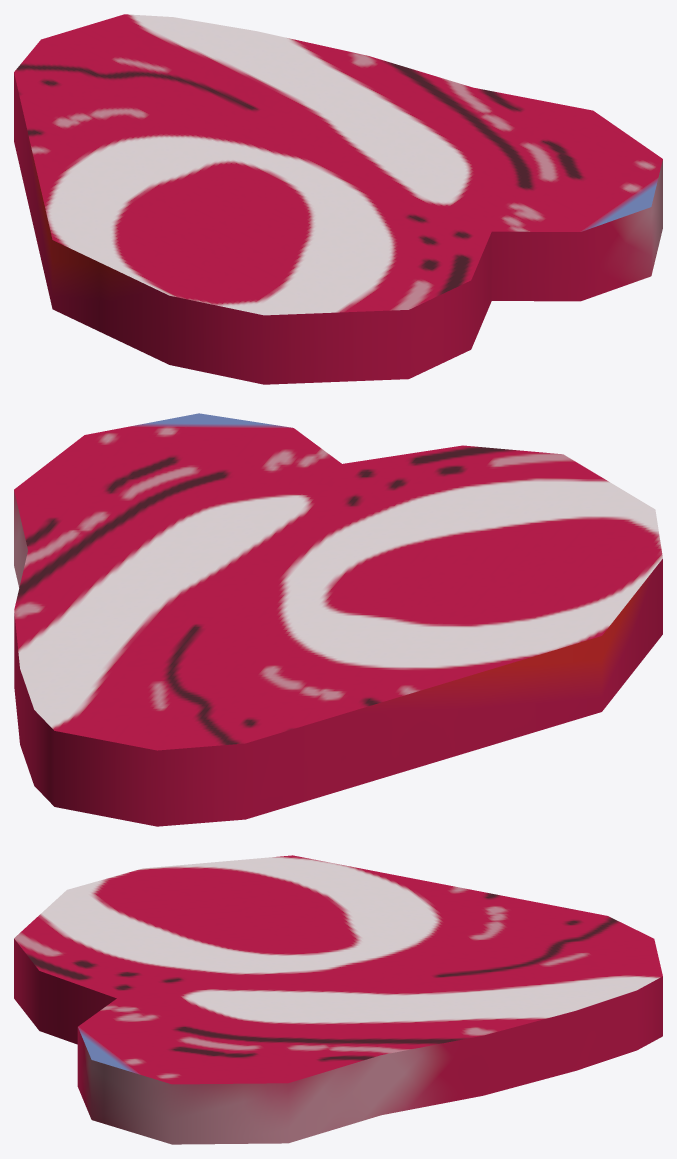
Rendered from meat.fbx.
3 renders of one model, top to bottom at view 1: azimuth 30°, elevation 25°; view 2: azimuth 150°, elevation 25°; view 3: azimuth 270°, elevation 25°, orthographic. The views are drawn at different scales.
Visible parts, largest first — view 1: Cylinder.006; view 2: Cylinder.006; view 3: Cylinder.006.
Boxes of the visible parts, bbox=[...] form: Cylinder.006: bbox=[14, 14, 662, 384]; Cylinder.006: bbox=[14, 413, 662, 826]; Cylinder.006: bbox=[14, 855, 662, 1144].
Bounding box in the file's own units: 16.79 × 2.06 × 20.1.
